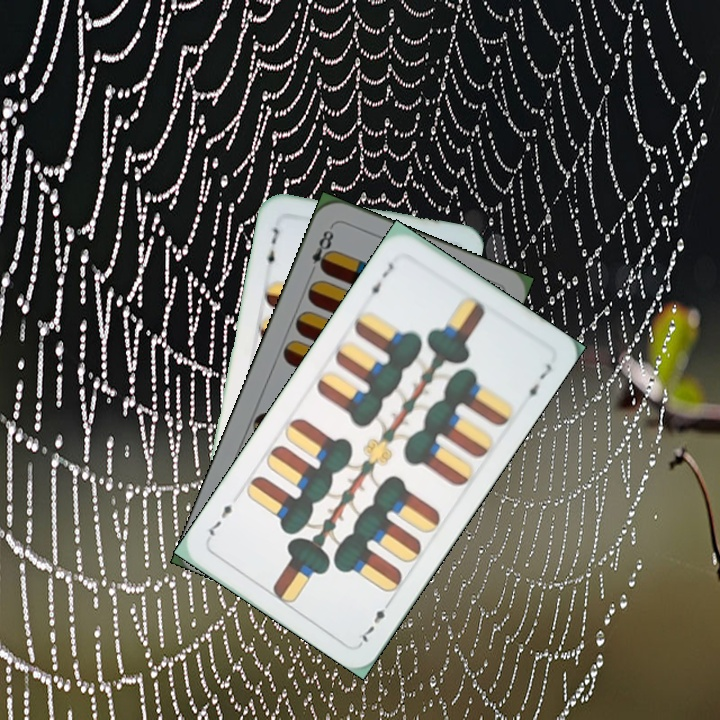E7: (356, 595, 395, 647), (362, 258, 397, 301), (262, 222, 282, 272)
E8: (305, 222, 337, 278)
